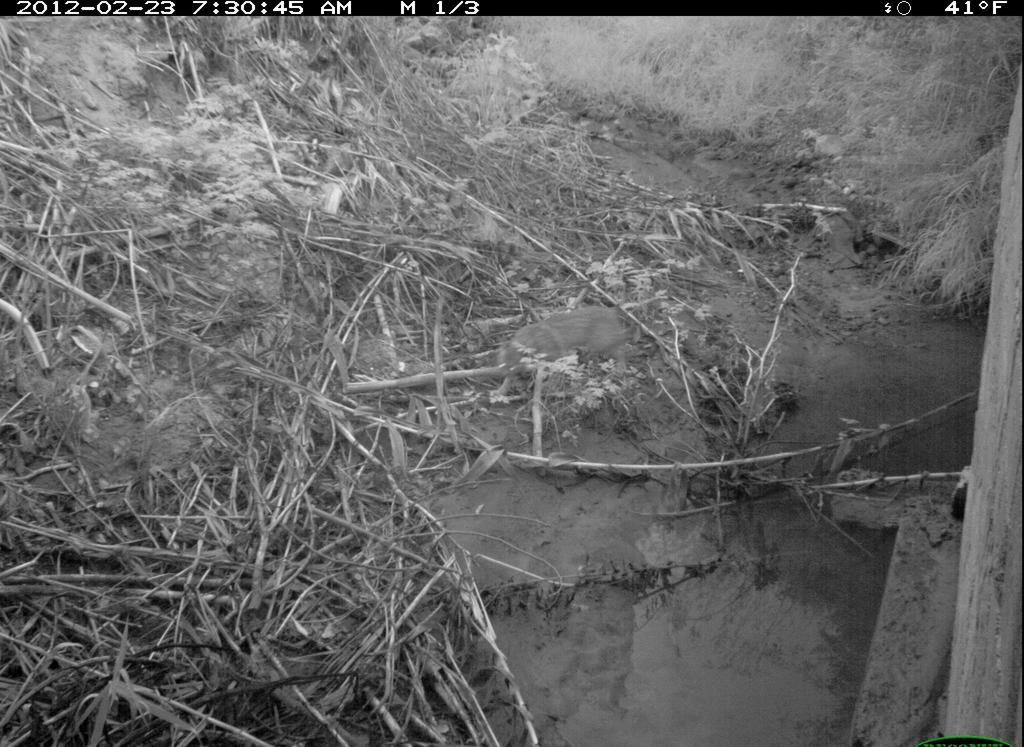opossum: (479, 297, 660, 405)
